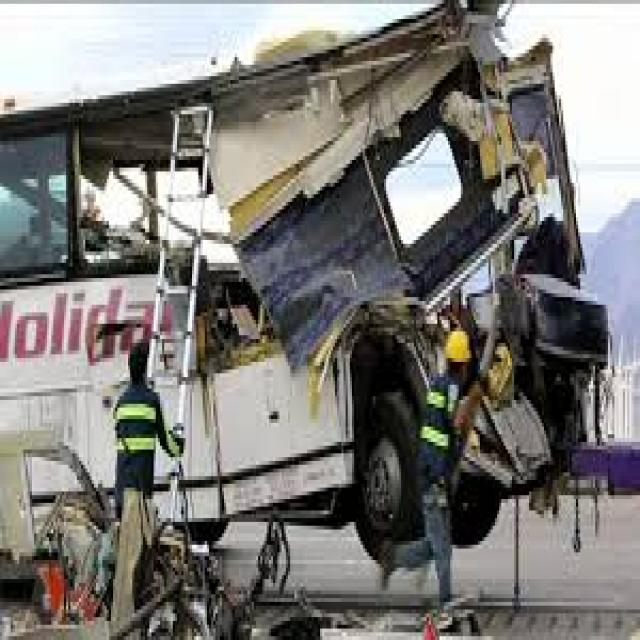accident: (7, 24, 640, 606)
